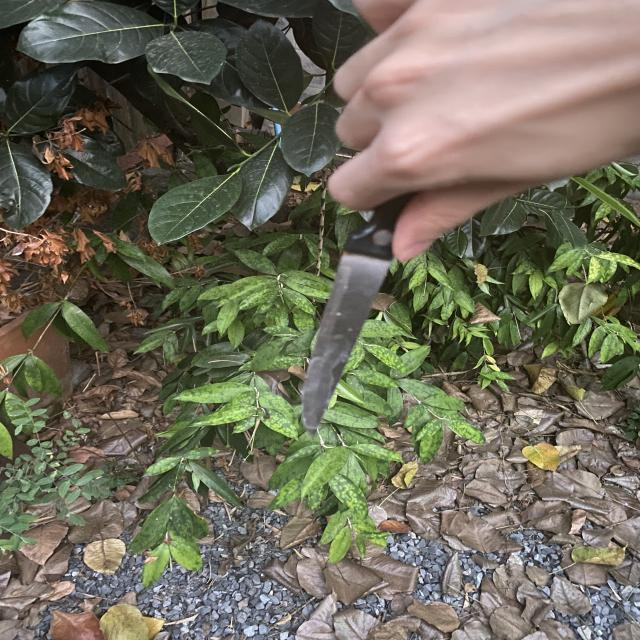faca: (253, 30, 580, 445)
